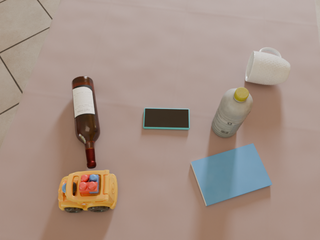book: (191, 144, 272, 206)
bottle: (72, 76, 100, 169), (212, 87, 253, 138)
cup: (245, 48, 290, 85)
phone: (143, 108, 190, 129)
toy_car: (58, 170, 118, 213)
